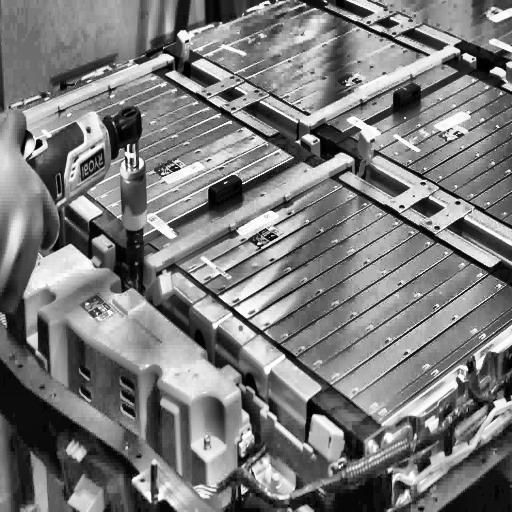busbar: (138, 118, 380, 309), (291, 38, 481, 158), (5, 25, 192, 134)
